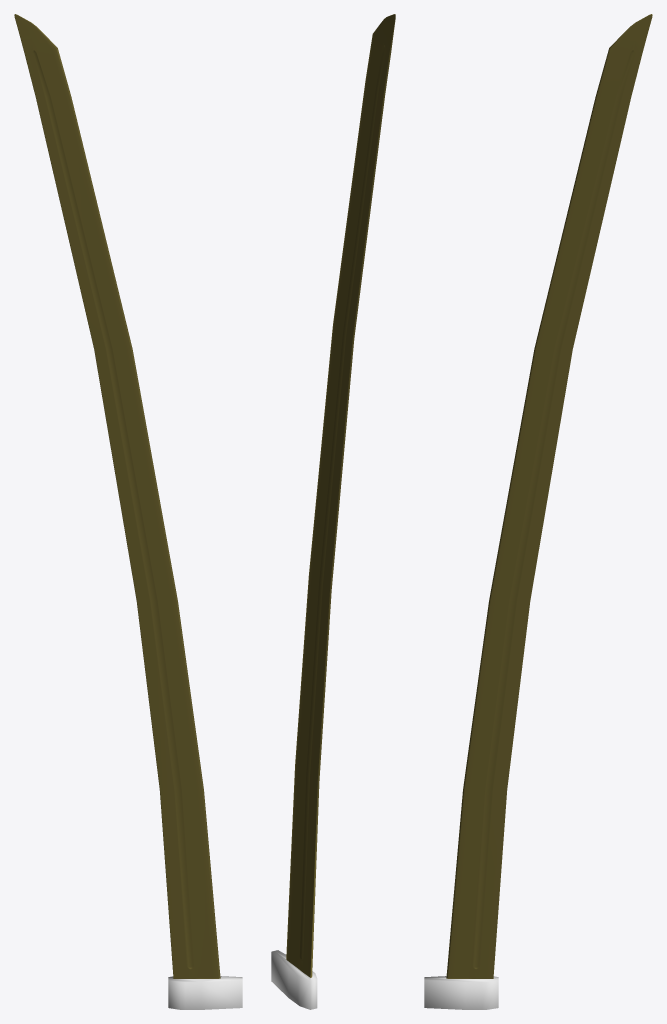
Rendered from katanablade.fbx.
3 views of the same model, side by side, from view 1: azimuth 90°, elevation 25°; view 2: azimuth 210°, elevation 25°; view 3: azimuth 270°, elevation 25° (orthographic). The views are drawn at different scales.
Parts seen in each view (by area): view 1: KatanaMesh; view 2: KatanaMesh; view 3: KatanaMesh.
Boxes of the visible parts, x1=… form: KatanaMesh: x1=14, y1=14, x2=242, y2=1009; KatanaMesh: x1=271, y1=14, x2=395, y2=1009; KatanaMesh: x1=424, y1=14, x2=652, y2=1009.
Bounding box in the file's own units: 0.6111 × 39.96 × 8.33.
